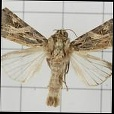Spodoptera litura: (1, 7, 113, 108)
